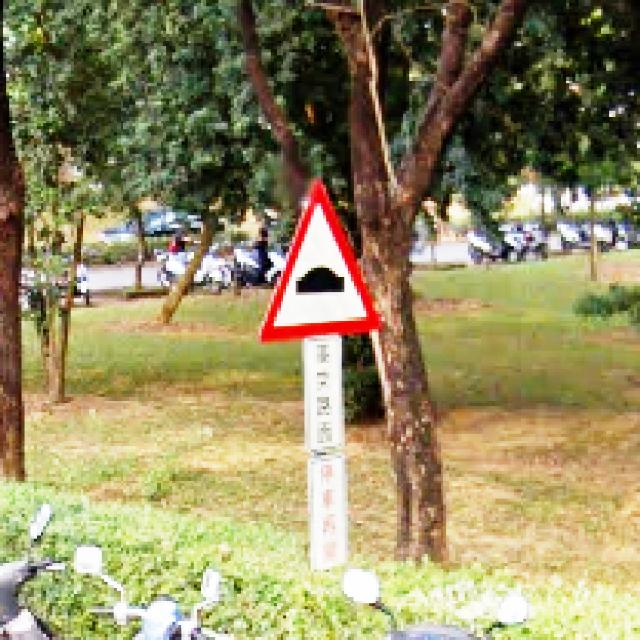hump: (259, 182, 382, 341)
